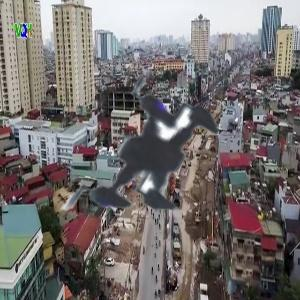drone: (14, 15, 292, 293)
